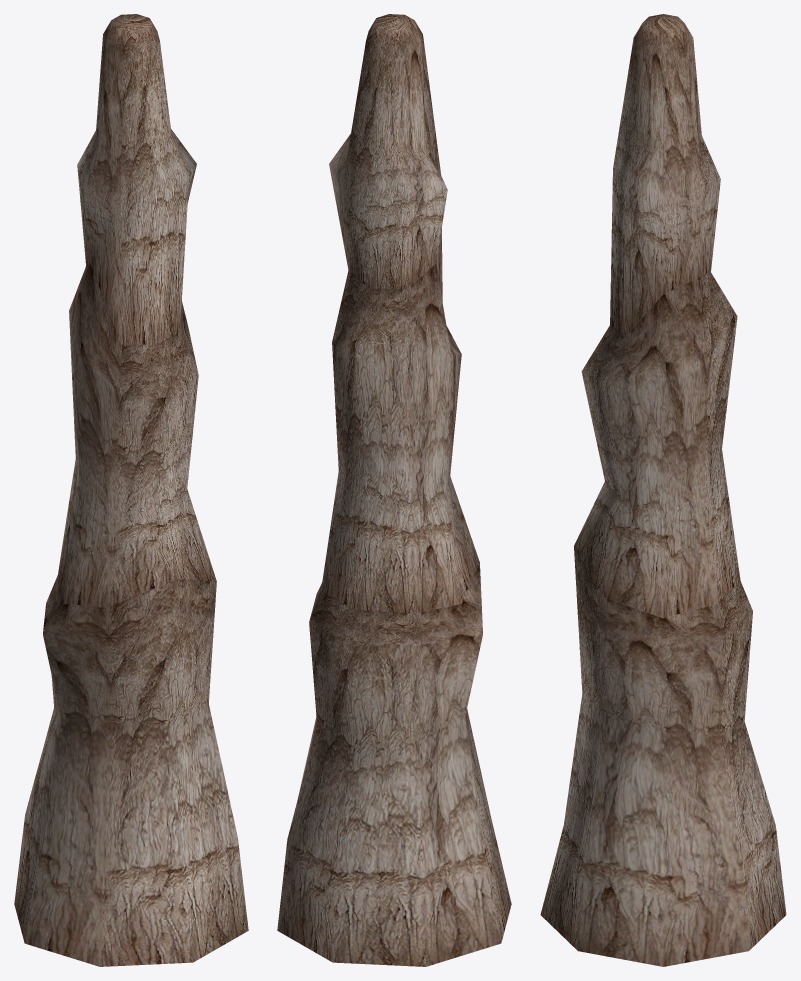
Rendered from stalagmite_large2.fbx.
3 views of the same model, side by side, from view 1: azimuth 30°, elevation 25°; view 2: azimuth 150°, elevation 25°; view 3: azimuth 270°, elevation 25° (orthographic).
Parts seen in each view (by area): view 1: mesh_0; view 2: mesh_0; view 3: mesh_0.
Part boxes in pixels (left/top/right/bottom): mesh_0: left=14, top=14, right=248, bottom=966; mesh_0: left=277, top=14, right=511, bottom=966; mesh_0: left=540, top=14, right=786, bottom=966.
Bounding box in the file's own units: 74.62 × 300 × 74.62.
1 material, 1 textured.
